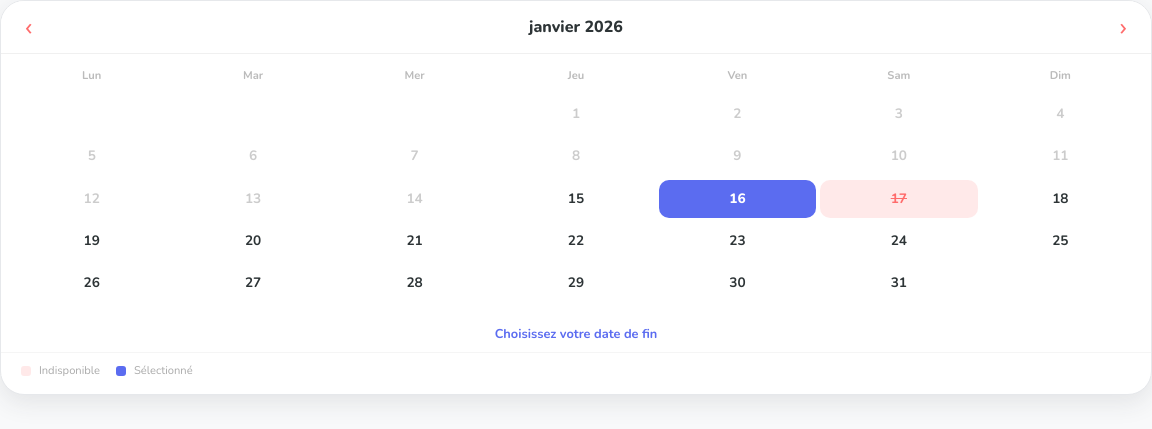
Scenario: AvailabilityCalendar › refuse une plage contenant un jour indisponible et affiche une alerte
The image size is (1152, 429).
Click the button "18" at coordinates (1060, 199), box [982,180,1139,218]
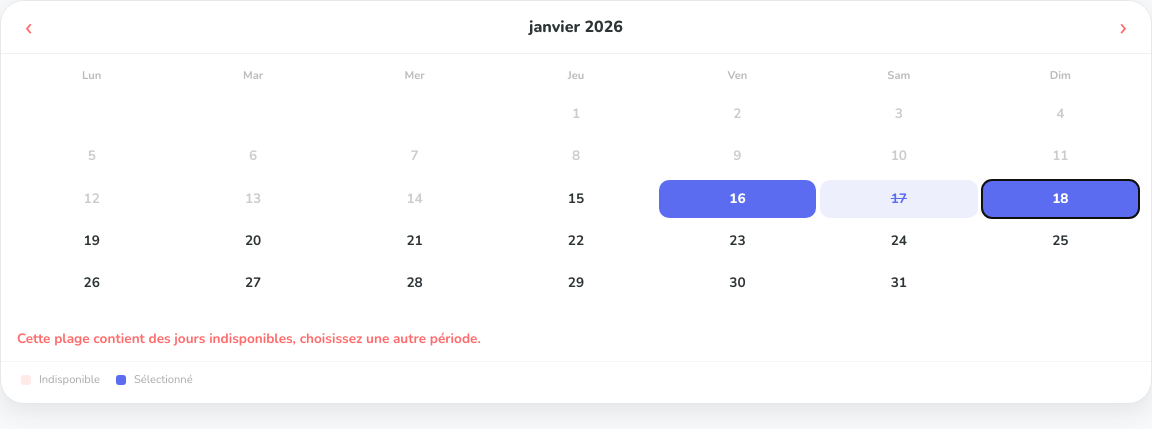
Expected: the message "Cette plage contient des jours indisponibles, choisissez une autre période." is shown, [17,329,481,348]
